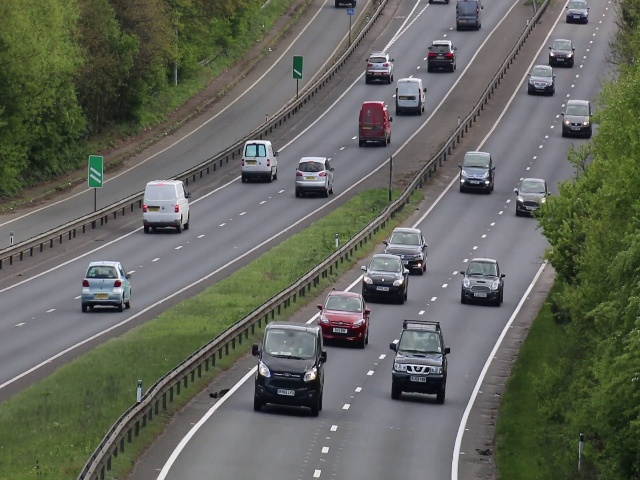car: (249, 326, 332, 412), (388, 322, 450, 404), (315, 291, 370, 350), (77, 256, 133, 312), (143, 180, 191, 235), (360, 253, 407, 304), (458, 257, 505, 306), (241, 138, 279, 186), (294, 154, 334, 198), (358, 101, 393, 149), (457, 150, 495, 193), (388, 223, 426, 265), (561, 96, 592, 138), (516, 174, 544, 220), (395, 76, 427, 115), (427, 38, 456, 75), (526, 63, 555, 96), (363, 52, 394, 82), (547, 35, 575, 68), (456, 1, 484, 30), (566, 1, 588, 26)
